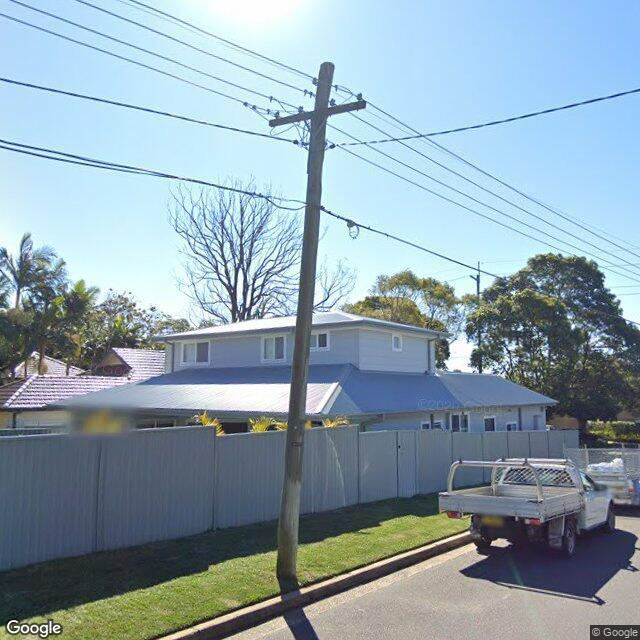HV-transmission: (470, 260, 484, 294)
crossarm: (270, 99, 369, 128)
timber-pole: (276, 64, 334, 577), (476, 275, 482, 373)
